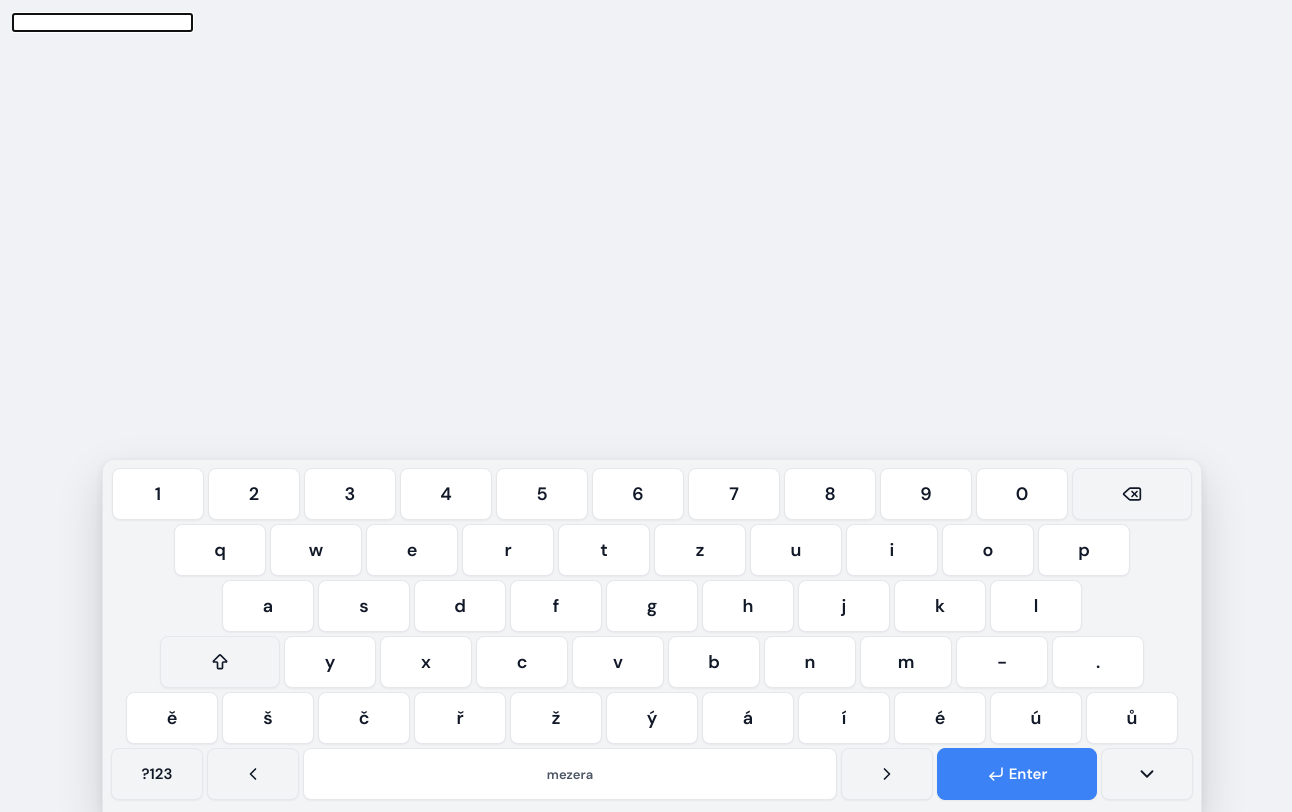
Test: OnScreenKeyboard › ⌫, kurzor vlevo a vložení doprostřed
Press the mouse on the button "a" at (268, 606), box x1=222 y1=580 x2=314 y2=632
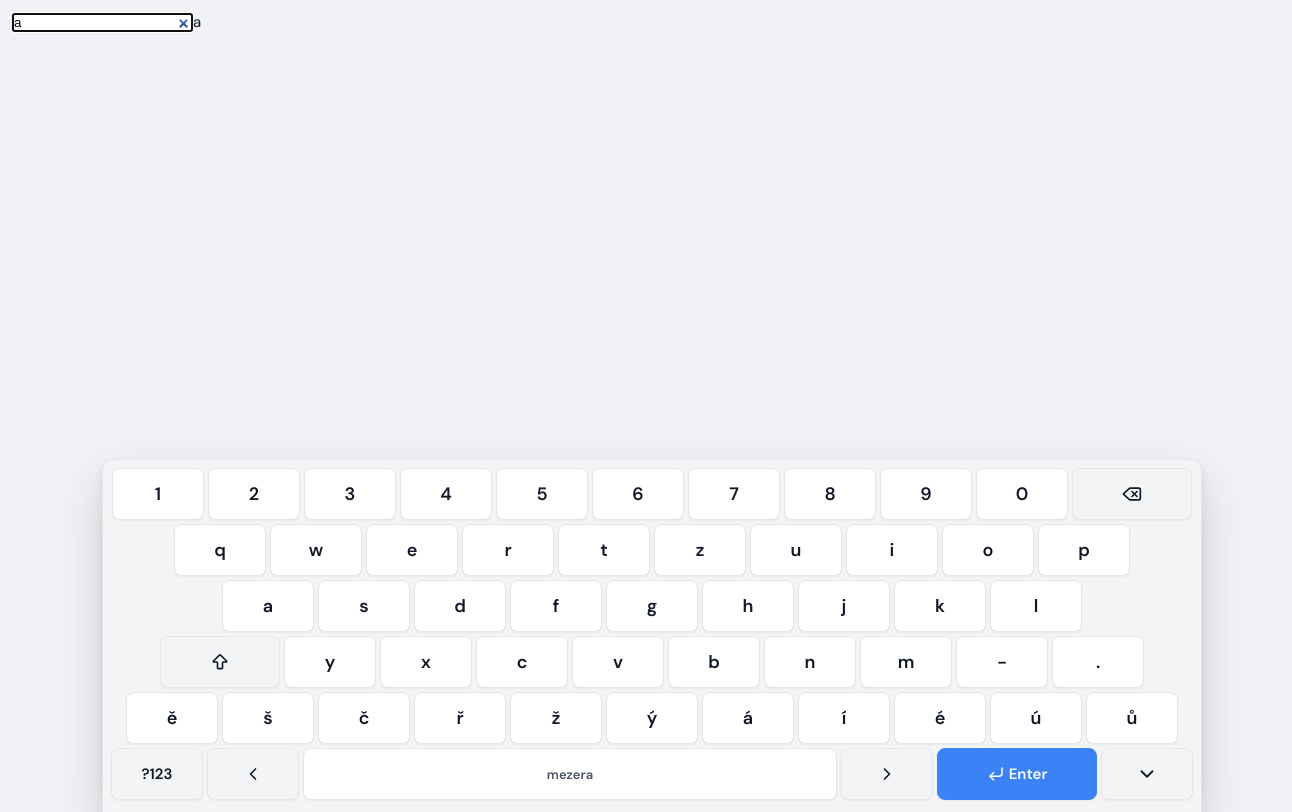
Press the mouse on the button "b" at (714, 662), box x1=668 y1=636 x2=760 y2=688
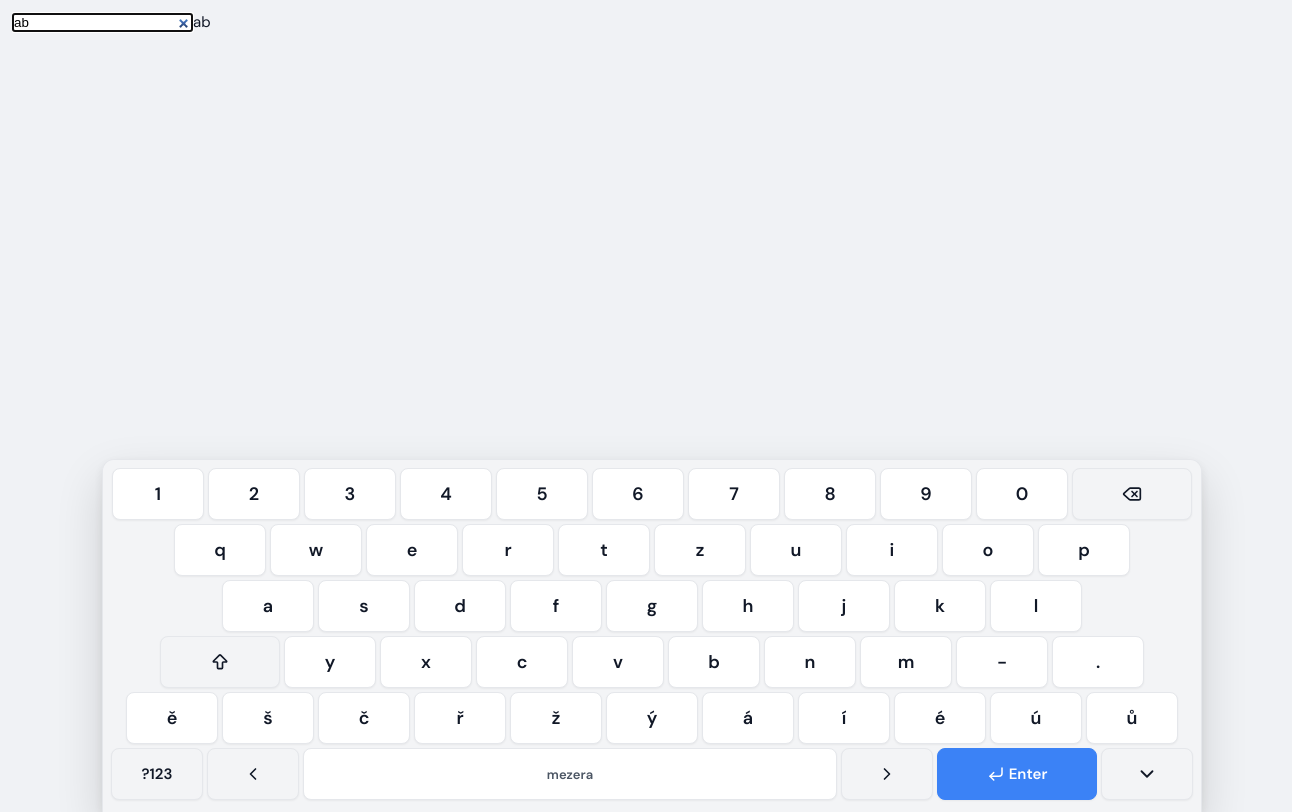
Press the mouse on the button "c" at (522, 662), box x1=476 y1=636 x2=568 y2=688
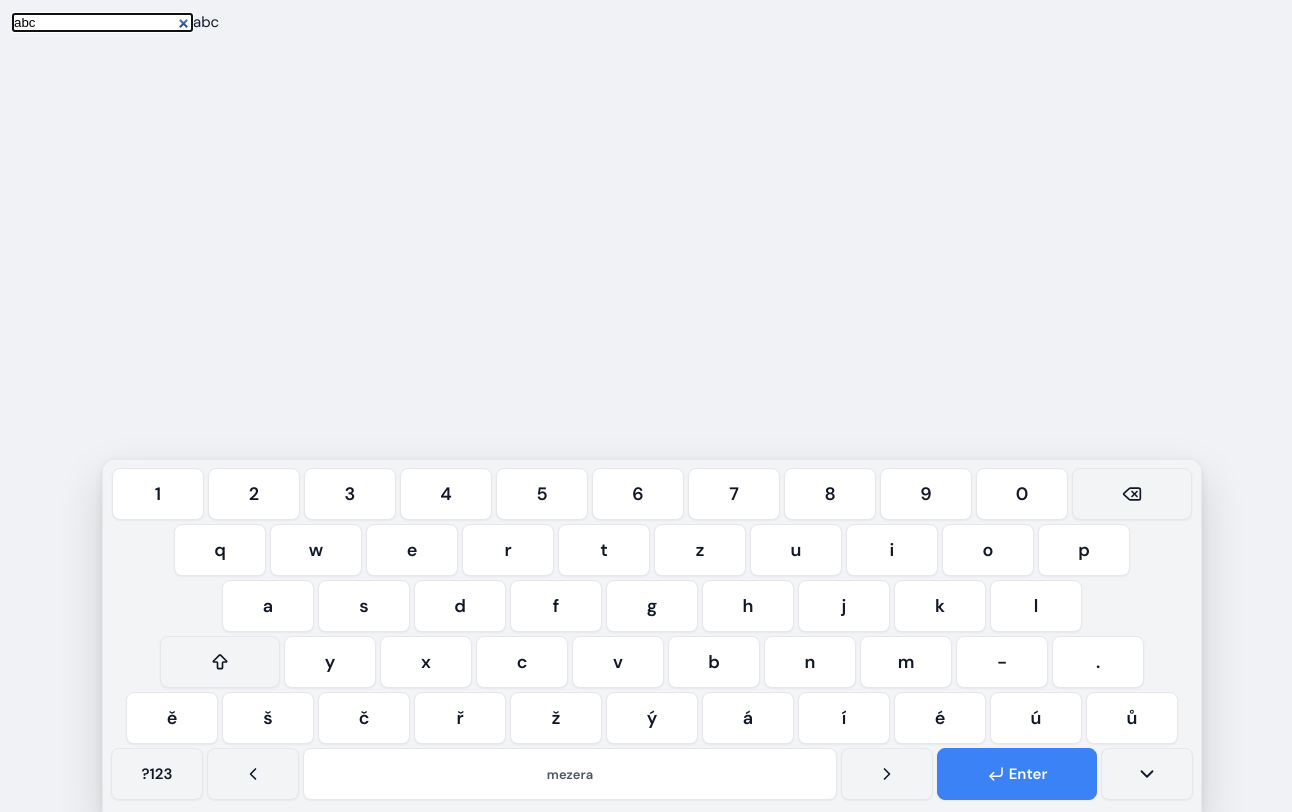
Press the mouse on the button named "Smazat znak" at (1132, 494), box x1=1072 y1=468 x2=1192 y2=520
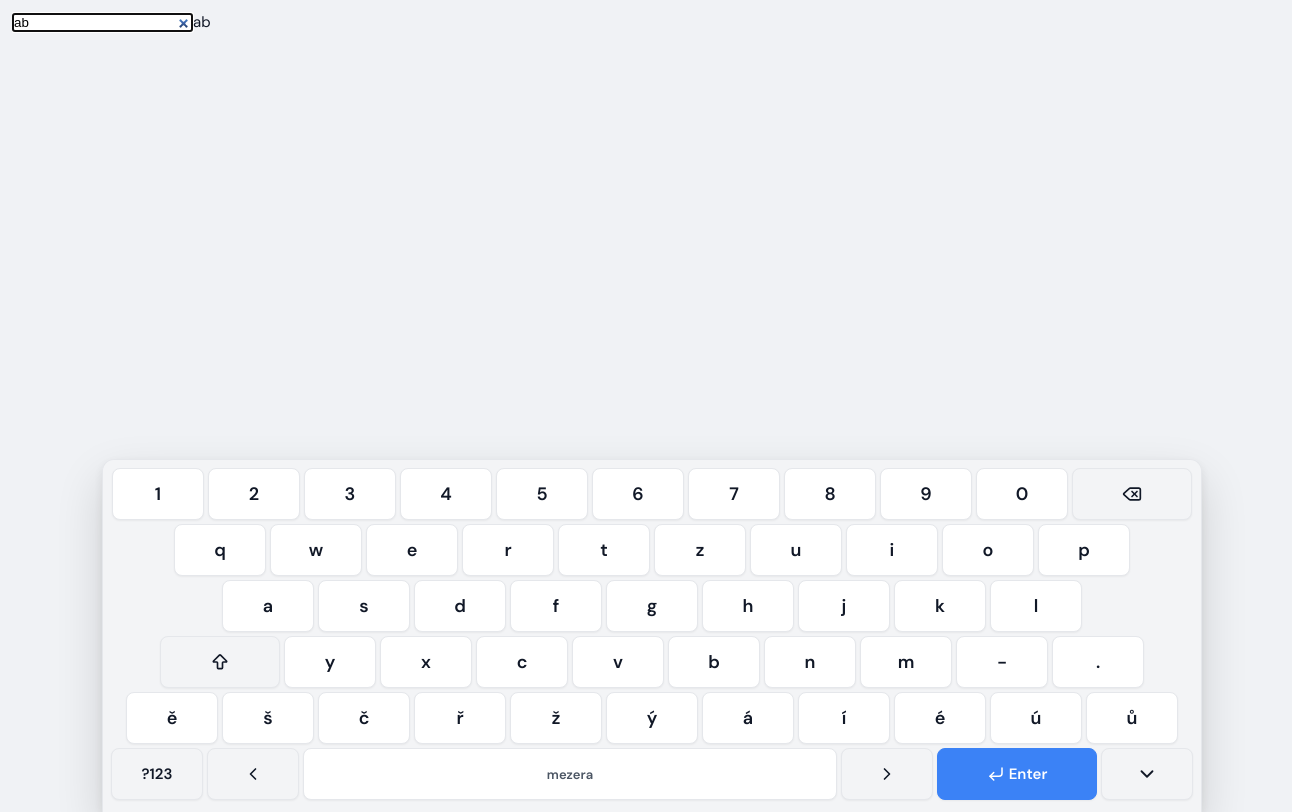
Press the mouse on the button named "Kurzor vlevo" at (253, 774), box x1=207 y1=748 x2=299 y2=800
Press the mouse on the button "x" at (426, 662), box x1=380 y1=636 x2=472 y2=688
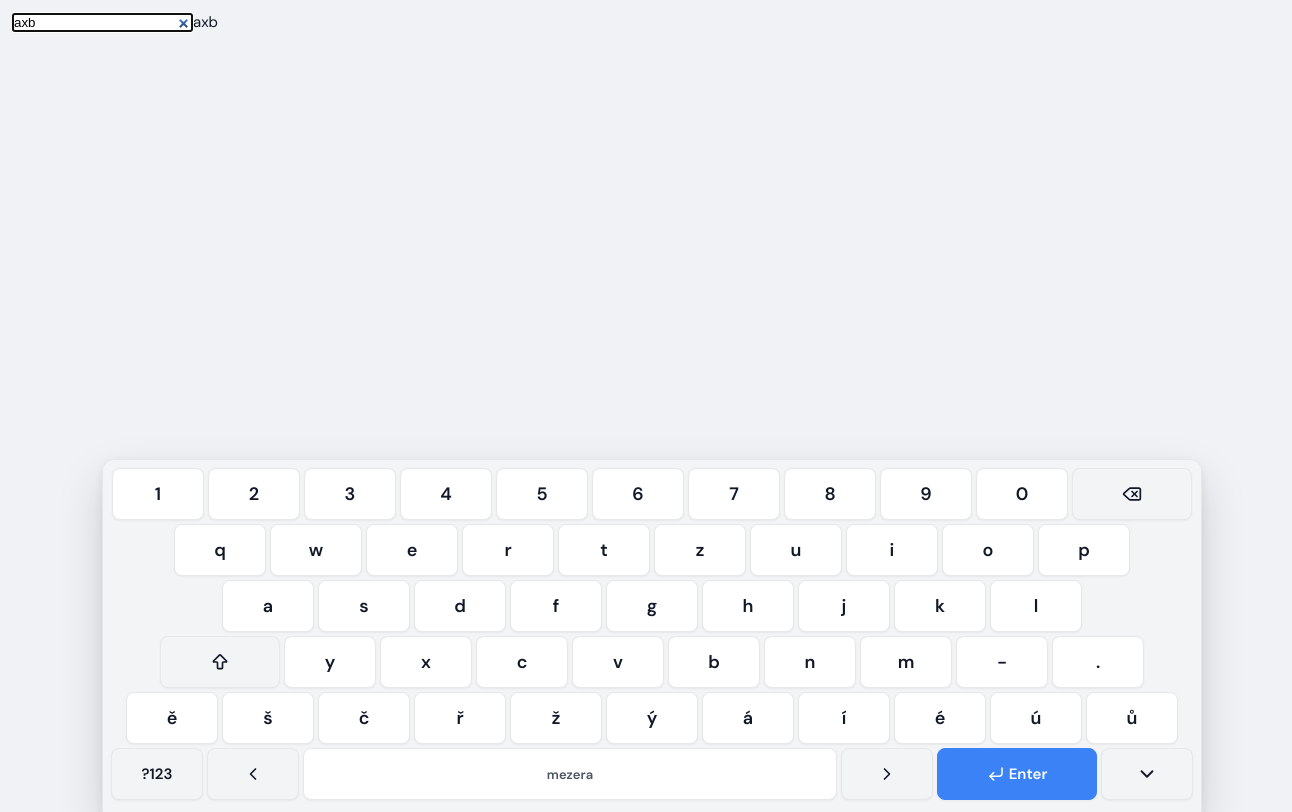
Expected: the text with test id "value" reads "axb", x1=193 y1=12 x2=218 y2=32
